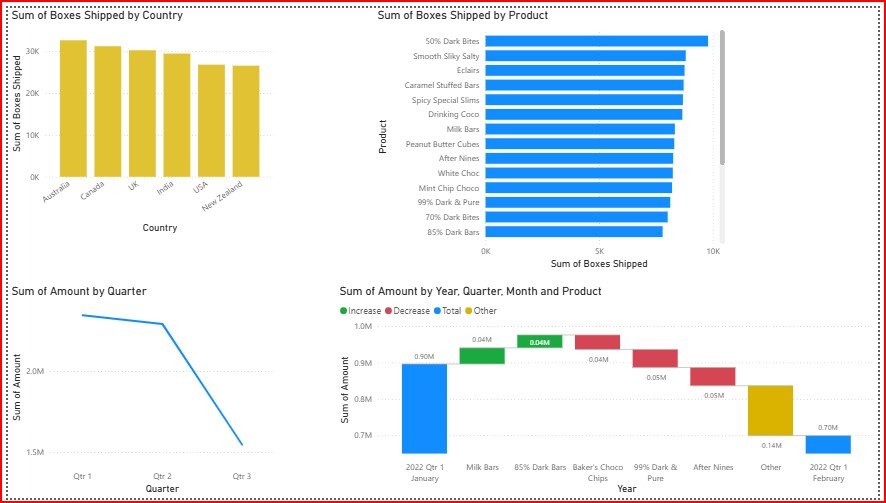

What the dashboard file says about the page in this screenshot:
{"tool":"powerbi","page":{"name":"Page 1","canvas":[1280,720],"ordinal":0},"visuals":[{"type":"columnChart","fields":{"Category":["data.Country"],"Y":["Sum(data.Boxes Shipped)"]},"box":[0,0,396.2,336.2],"z":0},{"type":"barChart","fields":{"Category":["data.Product"],"Y":["Sum(data.Boxes Shipped)"]},"box":[537.5,0,521.2,388.8],"z":1000},{"type":"waterfallChart","fields":{"Category":["data.Date.Variation.Date Hierarchy.Year","data.Date.Variation.Date Hierarchy.Quarter","data.Date.Variation.Date Hierarchy.Month"],"Breakdown":["data.Product"],"Y":["Sum(data.Amount)"]},"box":[482.5,406.2,797.5,313.8],"z":2000},{"type":"lineChart","fields":{"Category":["data.Date.Variation.Date Hierarchy.Year","data.Date.Variation.Date Hierarchy.Quarter","data.Date.Variation.Date Hierarchy.Month","data.Date.Variation.Date Hierarchy.Day"],"Y":["Sum(data.Amount)"]},"box":[0,406,396,314],"z":3000}]}

Visuals, with their boxes in screenshot pixels (x1, y1, x2, y2), scaled from the page's 1280x720 canvas onto the 886x503 screenshot:
columnChart - data.Country x Sum(data.Boxes Shipped): box(0, 0, 274, 235)
barChart - data.Product x Sum(data.Boxes Shipped): box(372, 0, 733, 272)
waterfallChart - data.Date.Variation.Date Hierarchy.Year x data.Date.Variation.Date Hierarchy.Quarter: box(334, 284, 885, 502)
lineChart - data.Date.Variation.Date Hierarchy.Year x data.Date.Variation.Date Hierarchy.Quarter: box(0, 284, 274, 502)
